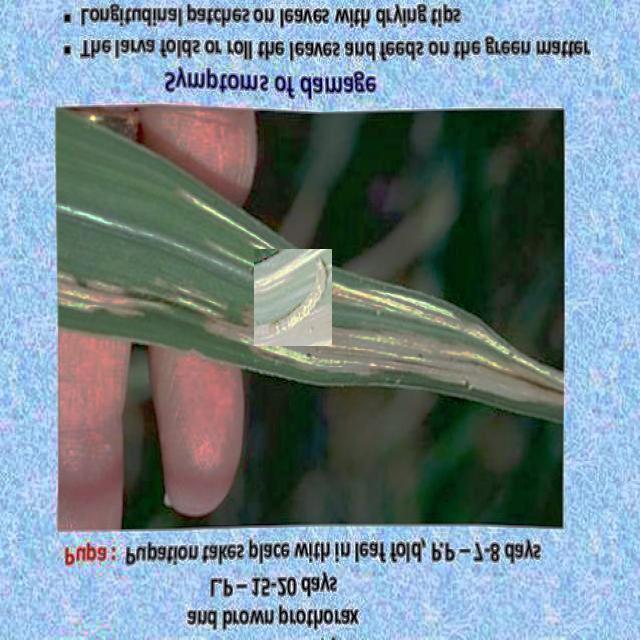leaf-folder: (254, 249, 332, 346)
